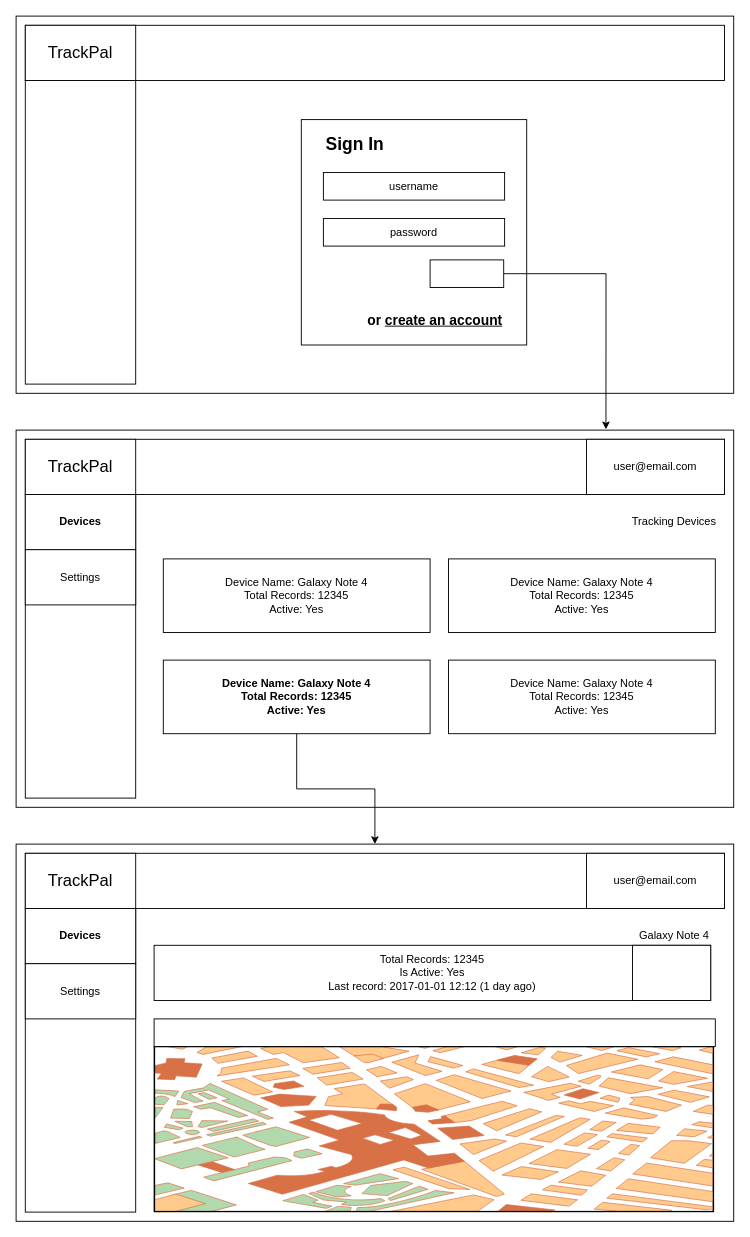
Image size: 750x1237. Some labels were removed from this diagram. Here are the shapes that lost their labels. From the top down, the centre of each, then its label:
[466,273]: login
[671,972]: edit
[434,1032]: 1H | 3H | 1D
